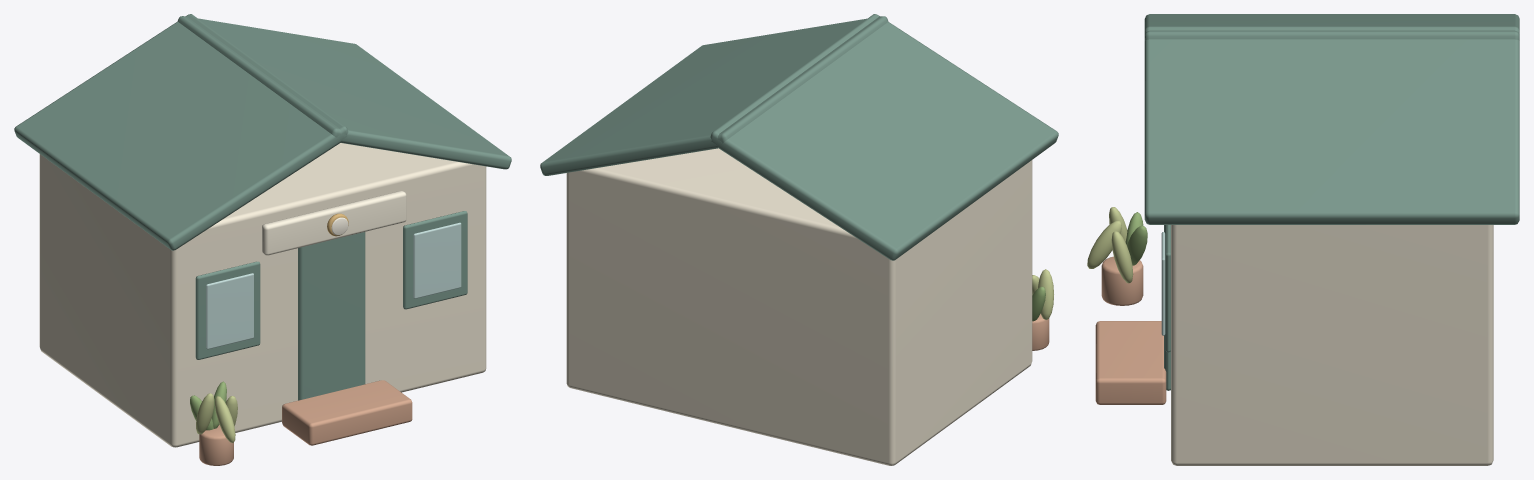
The model's file is Station.fbx.
3 renders of one model, left to right at view 1: azimuth 30°, elevation 25°; view 2: azimuth 150°, elevation 25°; view 3: azimuth 270°, elevation 25°, orthographic. The views are drawn at different scales.
Visible parts, largest first — view 1: Seaweed.003, Oat.004, Clay.004, Glass.004, Paper.001, LeafLight.003, Leaf.003; view 2: Oat.004, Seaweed.003, LeafLight.003, Clay.004; view 3: Seaweed.003, Oat.004, Clay.004, LeafLight.003, Leaf.003, Glass.004.
Boxes of the visible parts, box(x1,y1,x2,y2) form: Seaweed.003: box(14, 14, 511, 400); Oat.004: box(39, 143, 486, 447); Clay.004: box(199, 380, 412, 465); Glass.004: box(206, 222, 461, 349); Paper.001: box(262, 191, 406, 255); LeafLight.003: box(196, 393, 237, 442); Leaf.003: box(190, 381, 226, 430); Oat.004: box(566, 148, 1032, 465); Seaweed.003: box(540, 14, 1058, 260); LeafLight.003: box(1032, 269, 1053, 319); Clay.004: box(1032, 314, 1049, 350); Seaweed.003: box(1144, 14, 1519, 390); Oat.004: box(1171, 225, 1493, 465); Clay.004: box(1095, 256, 1166, 404); LeafLight.003: box(1087, 207, 1133, 283); Leaf.003: box(1125, 212, 1147, 265); Glass.004: box(1161, 232, 1165, 335).
Bounding box in the file's own units: 381 × 309 × 348.
